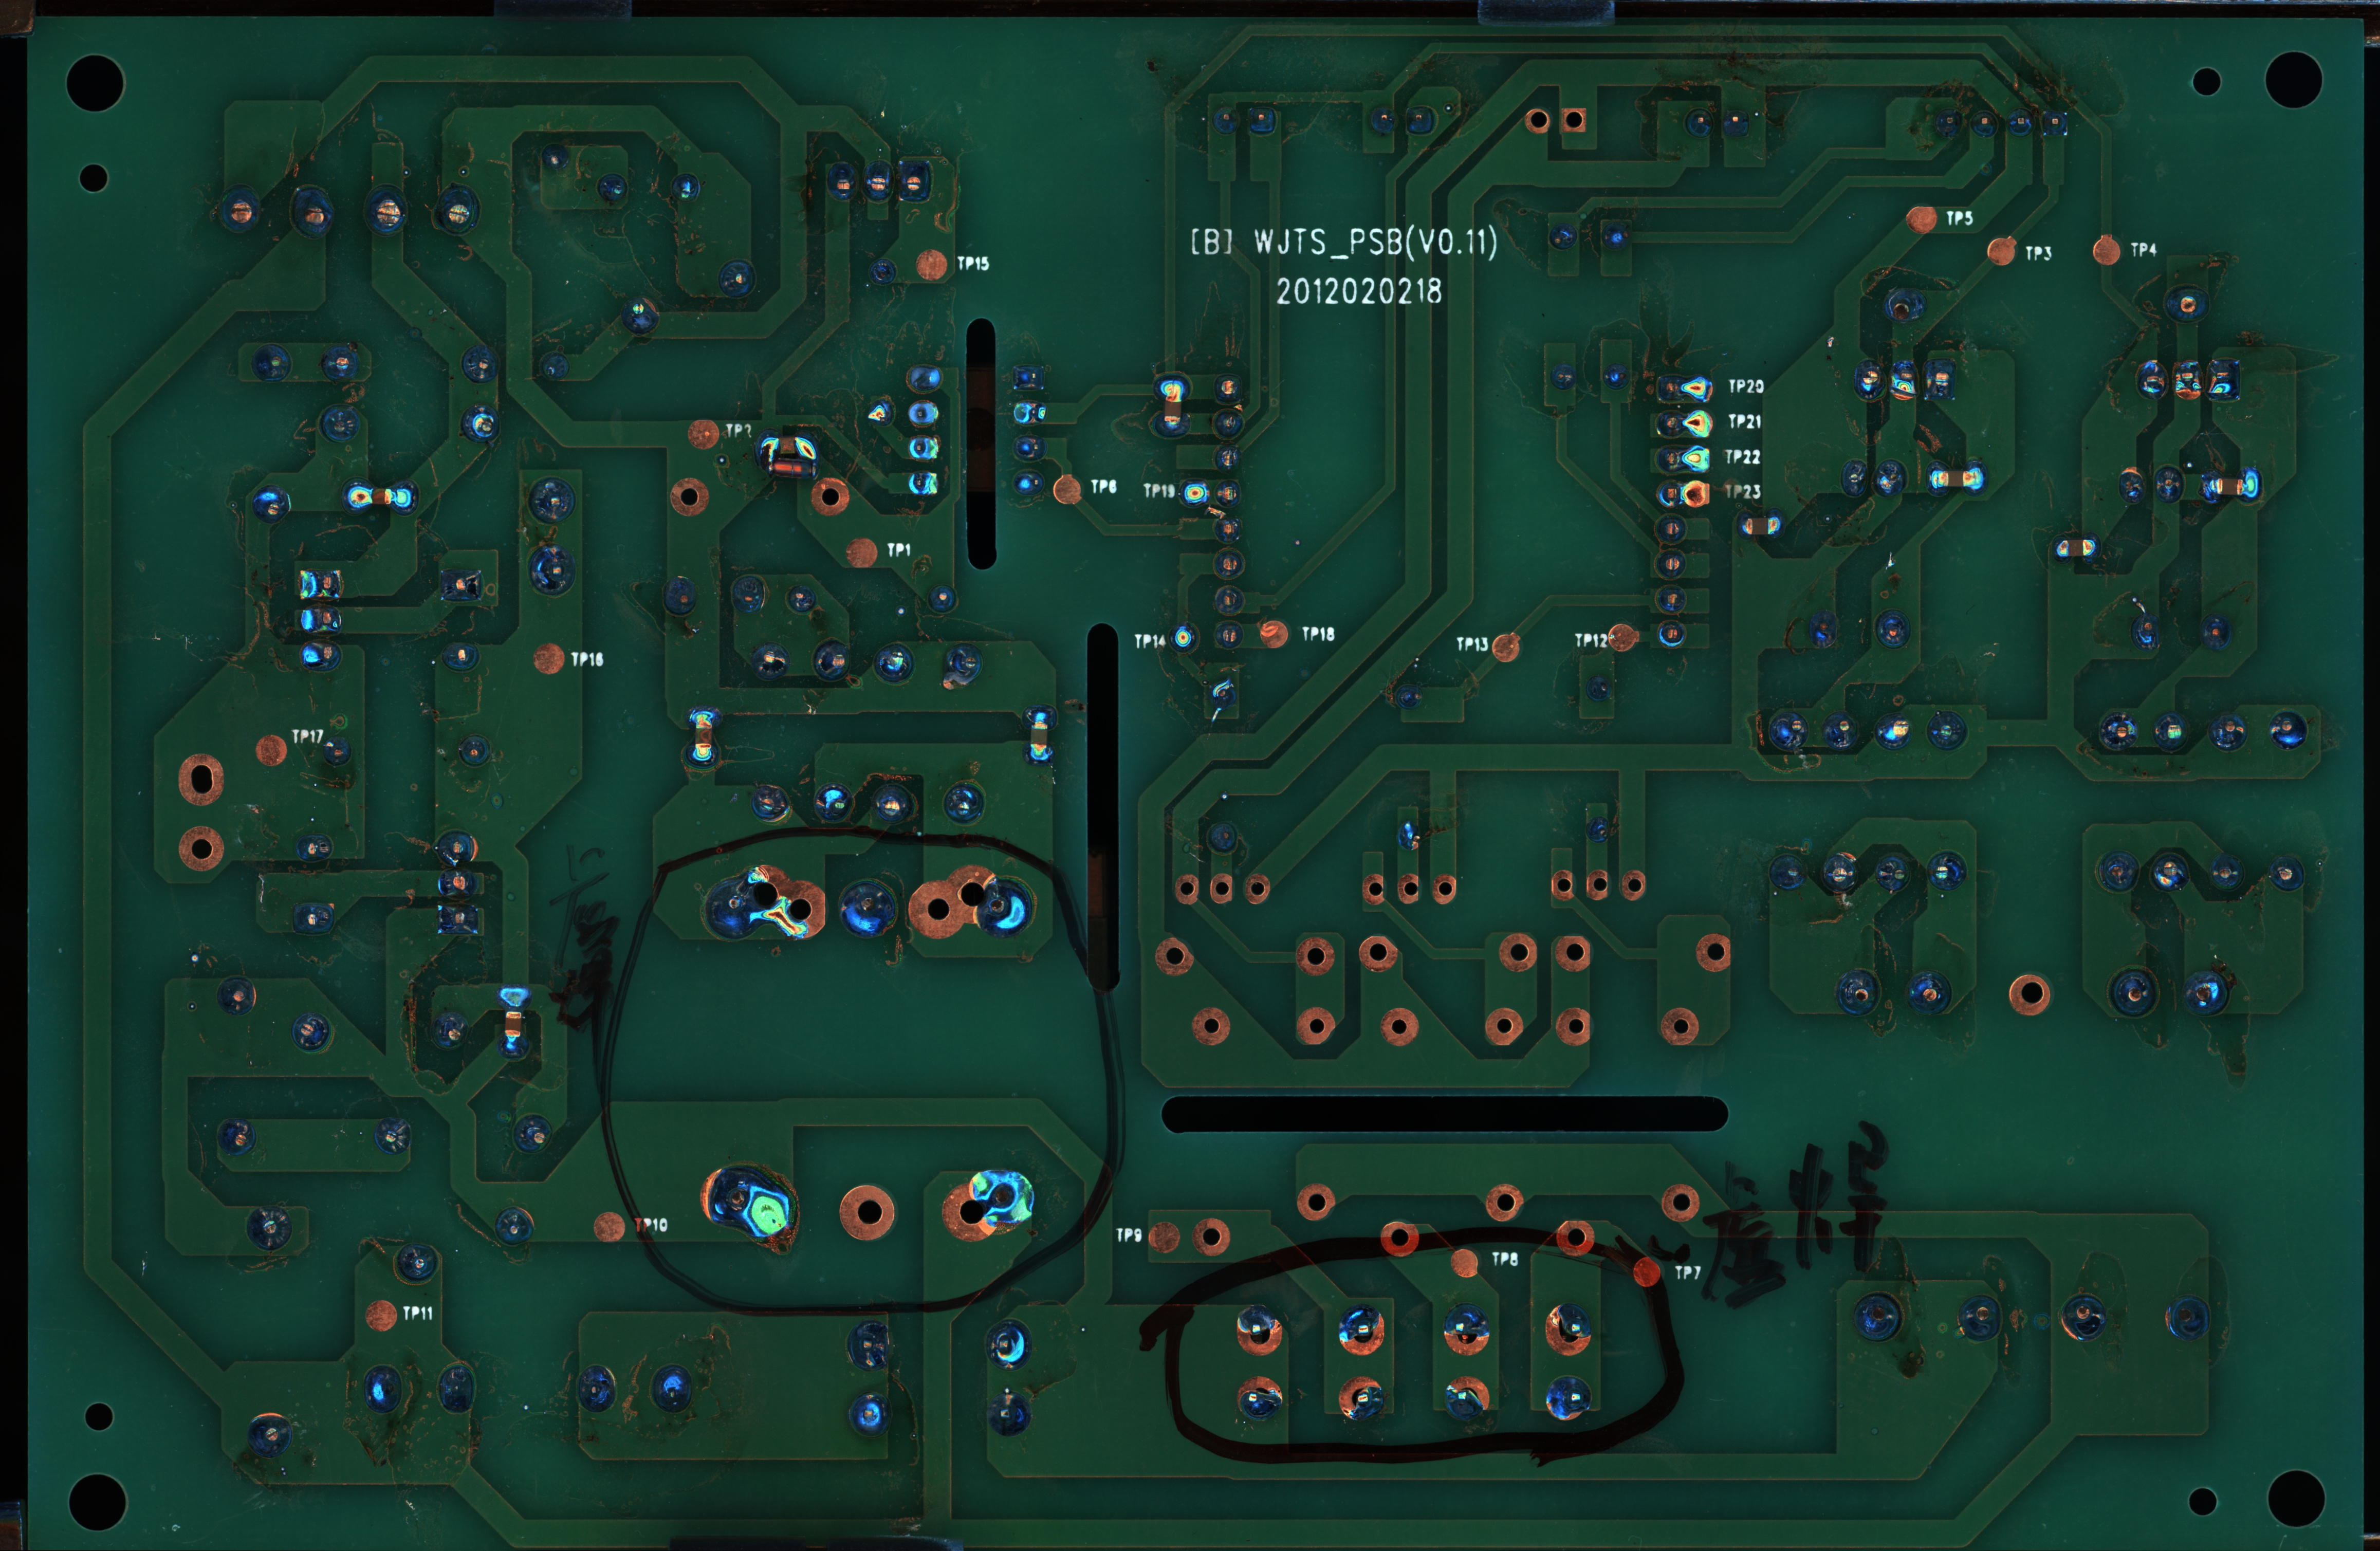pseudo soldering: (701, 1157, 796, 1256), (697, 867, 765, 947), (834, 873, 900, 944), (977, 873, 1037, 940), (1540, 1301, 1596, 1358), (1334, 1299, 1388, 1358), (1440, 1301, 1492, 1357), (1232, 1305, 1285, 1357), (1336, 1376, 1388, 1424), (1542, 1374, 1594, 1423), (1442, 1374, 1490, 1424), (1235, 1374, 1284, 1423)
